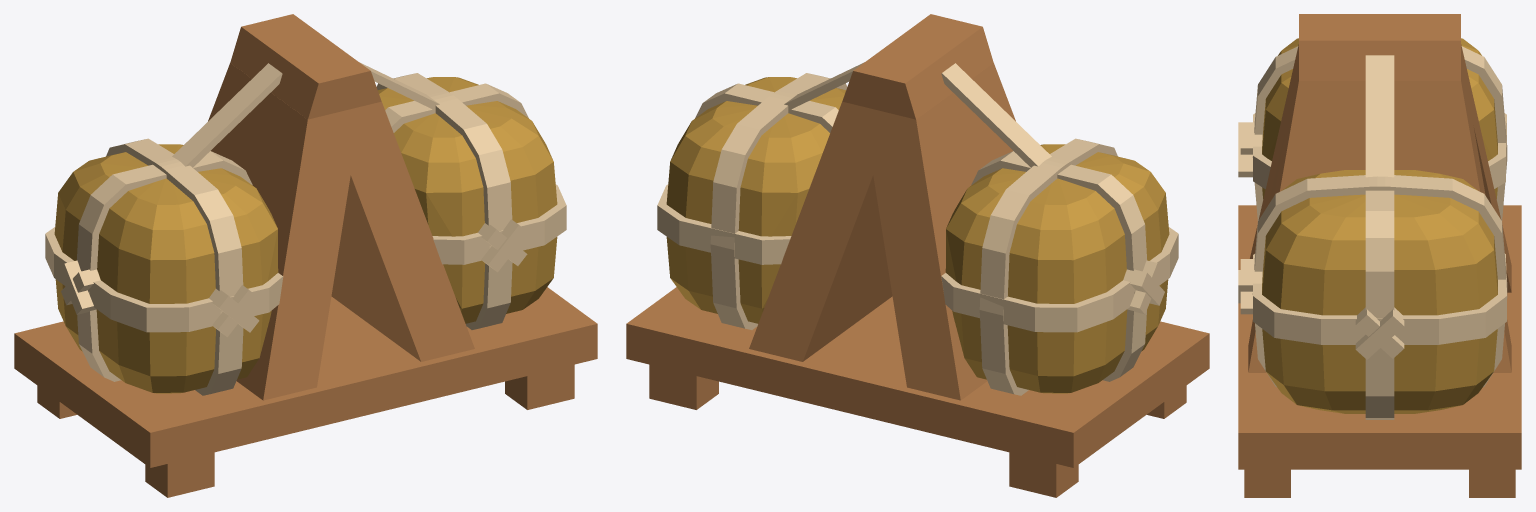
The model's file is KANJI_30_MONO.fbx.
3 renders of one model, left to right at view 1: azimuth 30°, elevation 25°; view 2: azimuth 150°, elevation 25°; view 3: azimuth 270°, elevation 25°, orthographic. The views are drawn at different scales.
Parts seen in each view (by area): view 1: SM_KANJI_30_Mono; view 2: SM_KANJI_30_Mono; view 3: SM_KANJI_30_Mono.
Boxes of the visible parts, box(x1,y1,x2,y2) form: SM_KANJI_30_Mono: box(14, 14, 597, 497); SM_KANJI_30_Mono: box(626, 14, 1209, 497); SM_KANJI_30_Mono: box(1238, 14, 1521, 497).
Size of the model in its own units: 0.28 by 0.2 by 0.14.
